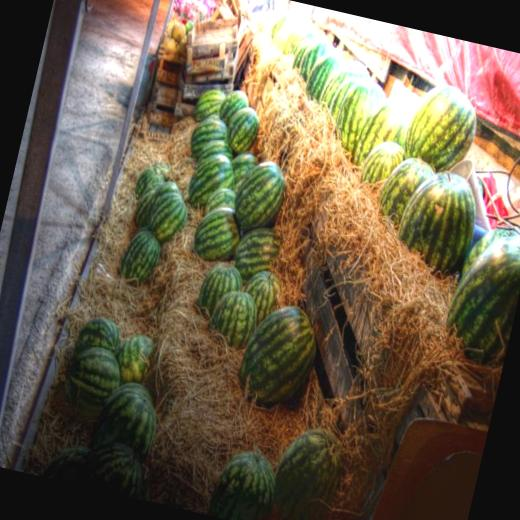Cherry: (36, 64, 423, 520), (204, 8, 520, 376), (396, 70, 486, 176)
